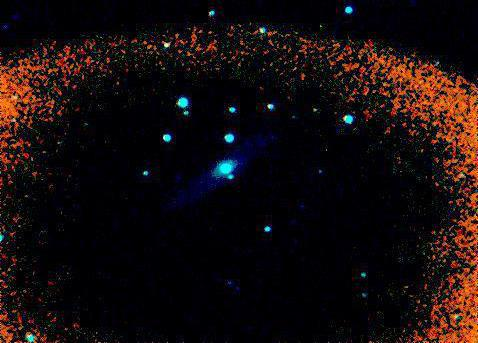star: (216, 148, 246, 178)
